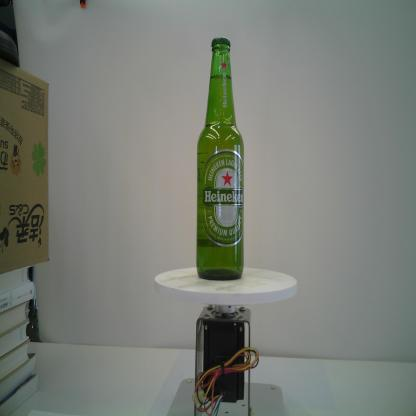Alcohol: (194, 35, 246, 283)
